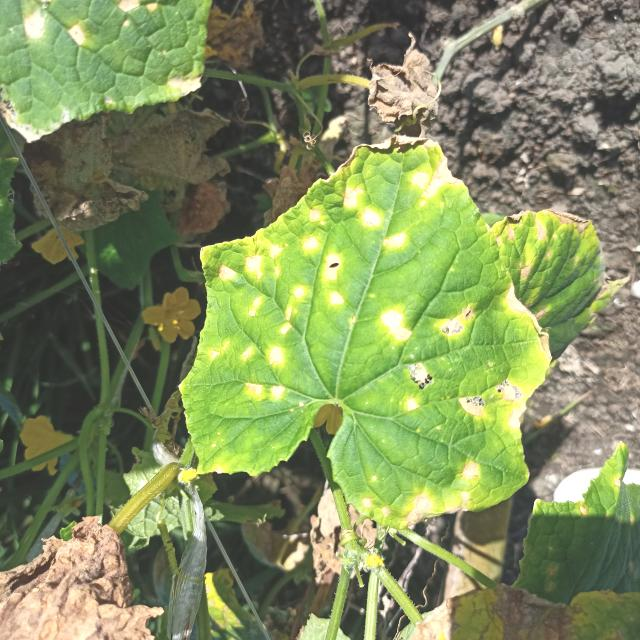disease_cucumber: (186, 144, 545, 527)
